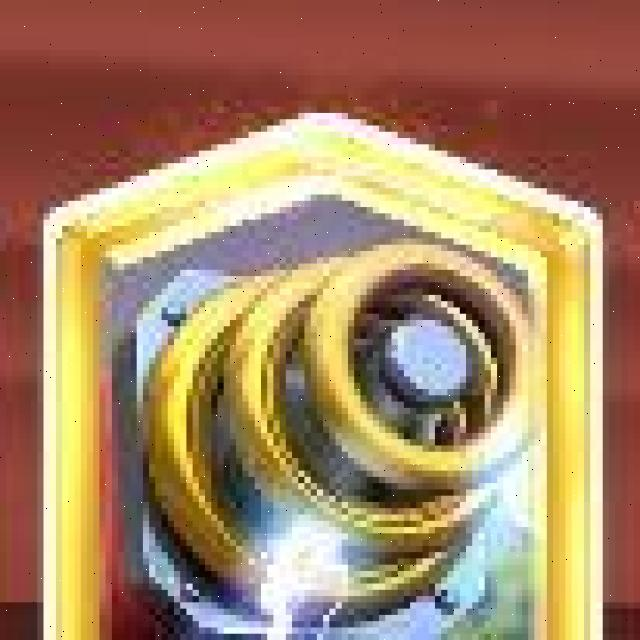Sparky: (47, 113, 602, 640)
